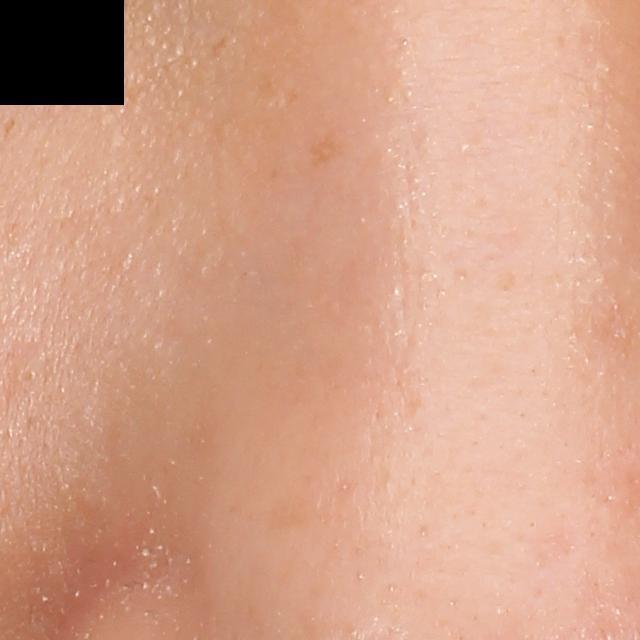comedo: (16, 362, 41, 385)
melasma: (309, 131, 342, 171), (212, 34, 231, 61)
